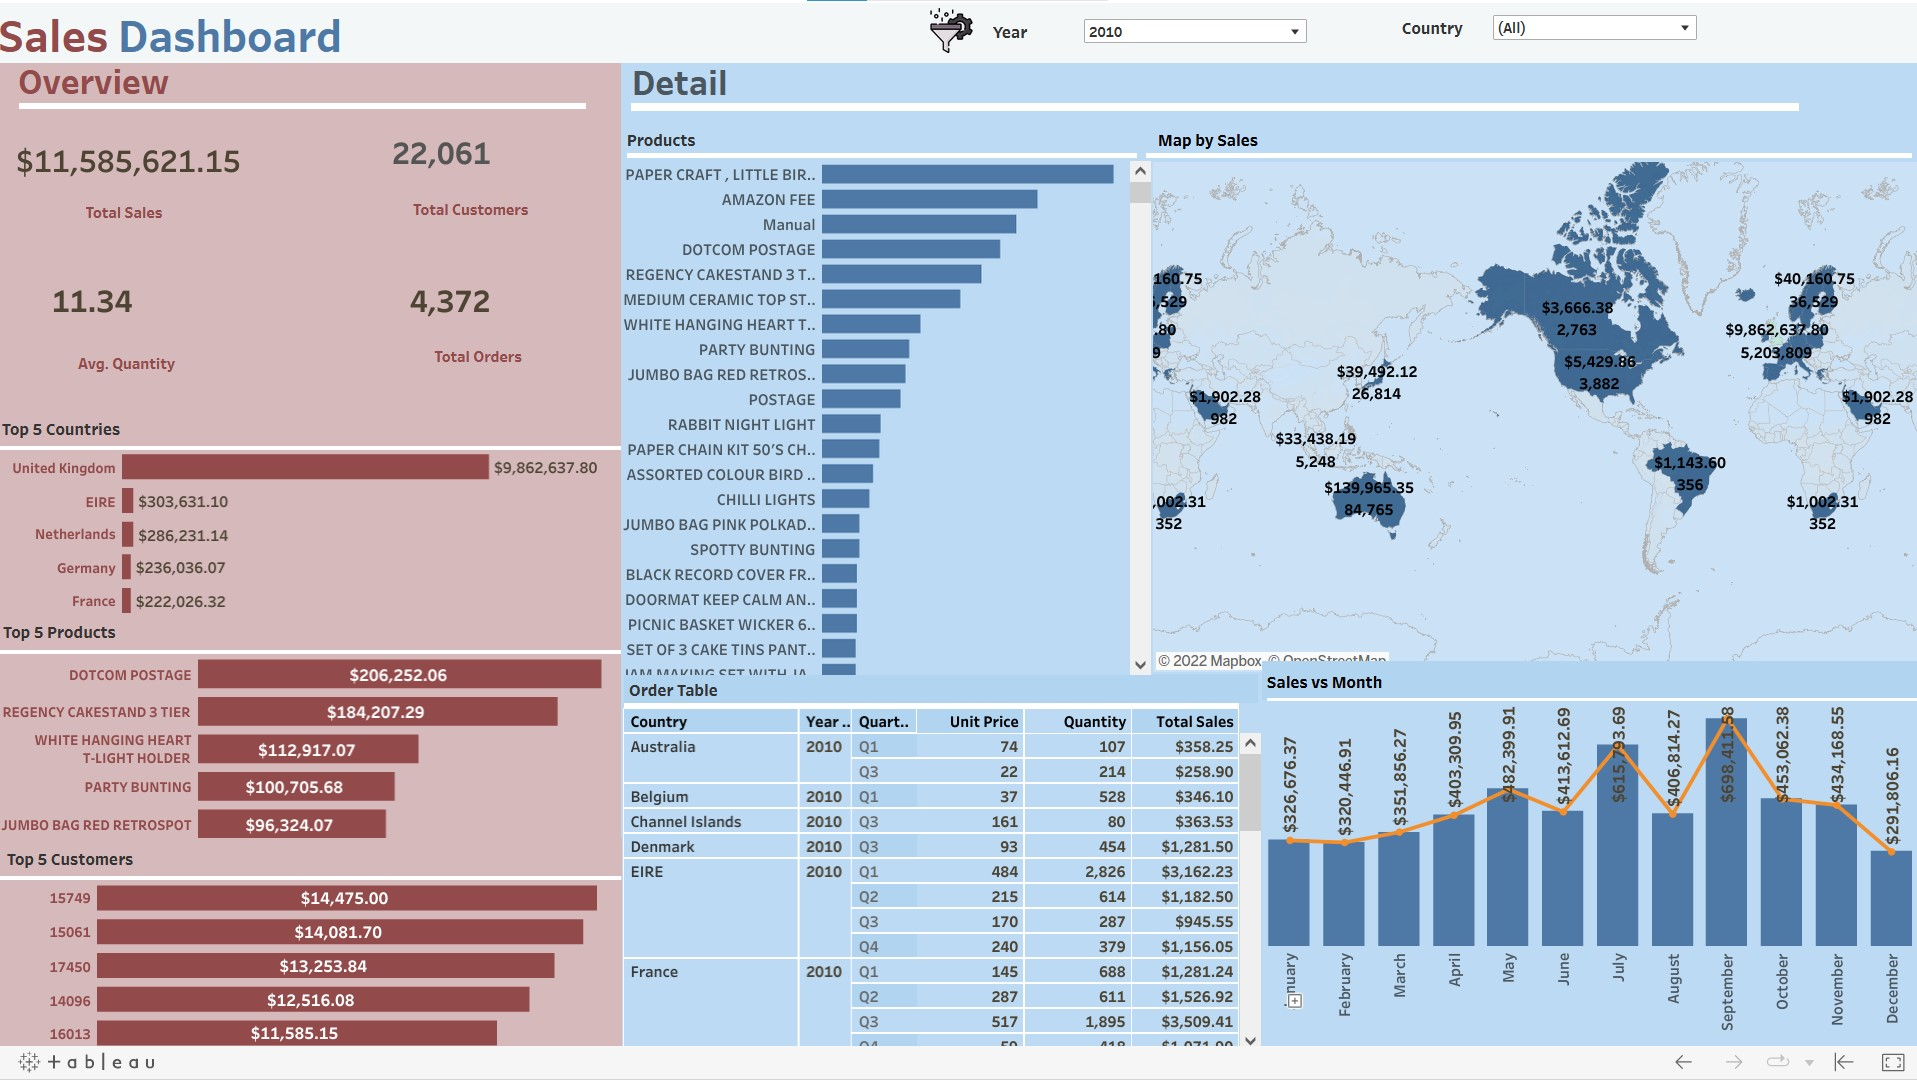

The page's visual inventory and layout, read from the dashboard file:
{"tool":"tableau","page":{"name":"Dashboard 1","canvas":[1000,1000],"units":"permille","ordinal":0},"visuals":[{"type":"text","box":[0,1.2,1000,51.1]},{"type":"image","param":"Image/filter.png","box":[485.2,7,27.2,43]},{"type":"filter","title":"Map by Sales","param":"[federated.1oyuksk0svb0lc1a2tq2j0jadrui].[none:Country:nk]","box":[730.8,13.9,154.5,40.6]},{"type":"filter","title":"Text Table","param":"[federated.1oyuksk0svb0lc1a2tq2j0jadrui].[yr:InvoiceDate:ok]","box":[518.4,17.4,164.2,29]},{"type":"text","box":[10.2,48.8,128.2,54.6]},{"type":"text","box":[330.2,49.9,80.6,54.6]},{"type":"image","param":"Image/Pink.png","box":[0.6,54.6,323.5,91.8]},{"type":"image","param":"Image/blue.png","box":[324.1,54.6,675.9,867.6]},{"type":"blank","box":[10.8,97.6,295.5,7]},{"type":"blank","box":[329.5,97.6,608.3,9.3]},{"type":"worksheet","title":"Map by Sales","mark":"Automatic","box":[601.2,132.4,399.4,511]},{"type":"worksheet","title":"Products by Sale","mark":"Automatic","rows":["Description"],"cols":["Calculation_1047368411960868864"],"box":[324.5,139.4,276.9,505.2]},{"type":"image","param":"Image/Pink.png","box":[0.6,145.2,323.3,858.3]},{"type":"blank","box":[600,168.4,399.4,4.7]},{"type":"blank","box":[324.5,169.6,264.9,4.7]},{"type":"worksheet","title":"Total Sales","mark":"Automatic","box":[10.2,183.5,128.8,46.5]},{"type":"worksheet","title":"Total Orders","mark":"Automatic","box":[222.2,188.2,63.8,43]},{"type":"text","box":[219.8,221.8,80.7,54.6]},{"type":"text","box":[35.7,235.8,62.5,34.8]},{"type":"worksheet","title":"Avg quantity per Order","mark":"Automatic","box":[31.9,299.7,58.7,84.8]},{"type":"worksheet","title":"Total Customers","mark":"Automatic","box":[218.8,307.8,65.7,46.5]},{"type":"text","box":[31.9,341.5,86.1,34.8]},{"type":"text","box":[224.5,356.6,62.5,34.8]},{"type":"worksheet","title":"Top 5 Products By Sales","mark":"Automatic","rows":["Description"],"cols":["Calculation_1047368411960868864"],"box":[0,584.2,324.4,219.5]},{"type":"worksheet","title":"Sales vs Month","mark":"Bar","rows":["Calculation_1047368411960868864","Calculation_1047368411960868864"],"cols":["InvoiceDate"],"box":[658.6,649.2,341.4,350.8]},{"type":"blank","box":[323.9,673.6,320.3,4.7]},{"type":"blank","box":[661.1,678.3,342.6,4.7]},{"type":"image","param":"Image/blue.png","box":[323.9,919.9,676.7,83.6]}]}

Visuals, with their boxes on the dashboard's canvas, which has no fixed pixel size, in thousandths of its width and height (x1, y1, x2, y2). These are canvas units, not pixel positions in the 1917x1080 screenshot, which may show the page scaled, cropped or inside an application window:
text: {"left": 0, "top": 1, "right": 1000, "bottom": 52}
image: {"left": 485, "top": 7, "right": 512, "bottom": 50}
"Map by Sales" filter: {"left": 731, "top": 14, "right": 885, "bottom": 54}
"Text Table" filter: {"left": 518, "top": 17, "right": 683, "bottom": 46}
text: {"left": 10, "top": 49, "right": 138, "bottom": 103}
text: {"left": 330, "top": 50, "right": 411, "bottom": 104}
image: {"left": 1, "top": 55, "right": 324, "bottom": 146}
image: {"left": 324, "top": 55, "right": 1000, "bottom": 922}
blank: {"left": 11, "top": 98, "right": 306, "bottom": 105}
blank: {"left": 330, "top": 98, "right": 938, "bottom": 107}
"Map by Sales" worksheet: {"left": 601, "top": 132, "right": 1001, "bottom": 643}
"Products by Sale" worksheet: {"left": 324, "top": 139, "right": 601, "bottom": 645}
image: {"left": 1, "top": 145, "right": 324, "bottom": 1004}
blank: {"left": 600, "top": 168, "right": 999, "bottom": 173}
blank: {"left": 324, "top": 170, "right": 589, "bottom": 174}
"Total Sales" worksheet: {"left": 10, "top": 184, "right": 139, "bottom": 230}
"Total Orders" worksheet: {"left": 222, "top": 188, "right": 286, "bottom": 231}
text: {"left": 220, "top": 222, "right": 300, "bottom": 276}
text: {"left": 36, "top": 236, "right": 98, "bottom": 271}
"Avg quantity per Order" worksheet: {"left": 32, "top": 300, "right": 91, "bottom": 384}
"Total Customers" worksheet: {"left": 219, "top": 308, "right": 284, "bottom": 354}
text: {"left": 32, "top": 342, "right": 118, "bottom": 376}
text: {"left": 224, "top": 357, "right": 287, "bottom": 391}
"Top 5 Products By Sales" worksheet: {"left": 0, "top": 584, "right": 324, "bottom": 804}
"Sales vs Month" worksheet (Bar marks): {"left": 659, "top": 649, "right": 1000, "bottom": 1000}
blank: {"left": 324, "top": 674, "right": 644, "bottom": 678}
blank: {"left": 661, "top": 678, "right": 1004, "bottom": 683}
image: {"left": 324, "top": 920, "right": 1001, "bottom": 1004}
